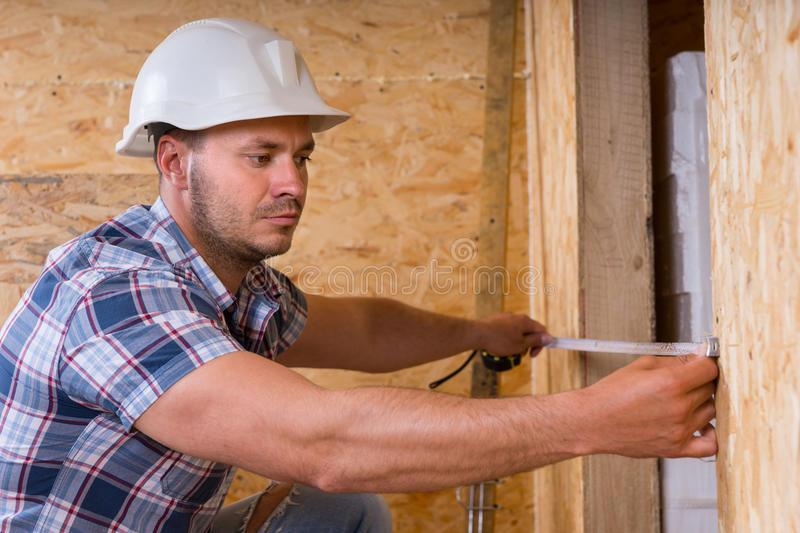helmet: (114, 18, 350, 153)
